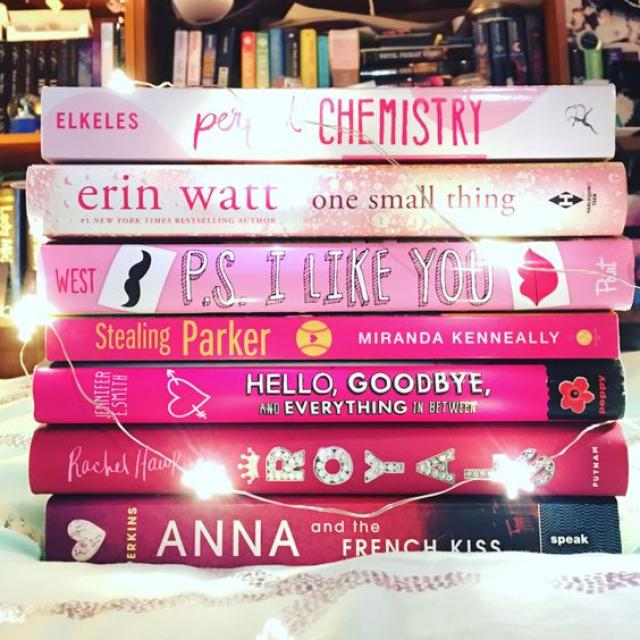book: (27, 164, 624, 233), (36, 242, 634, 310), (41, 88, 613, 156), (29, 430, 628, 494), (47, 501, 620, 558), (33, 366, 625, 420), (45, 316, 618, 359)
